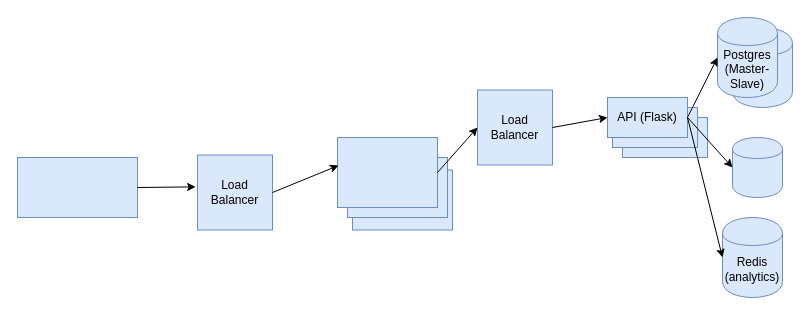
This 810x315 diagram has some shape labels left out. Each missing label, with the centre of its shape:
"Client" belongs at [77,187].
"File store" belongs at [757,167].
"Web Server (vue.js) Port 8080" belongs at [387,172].
